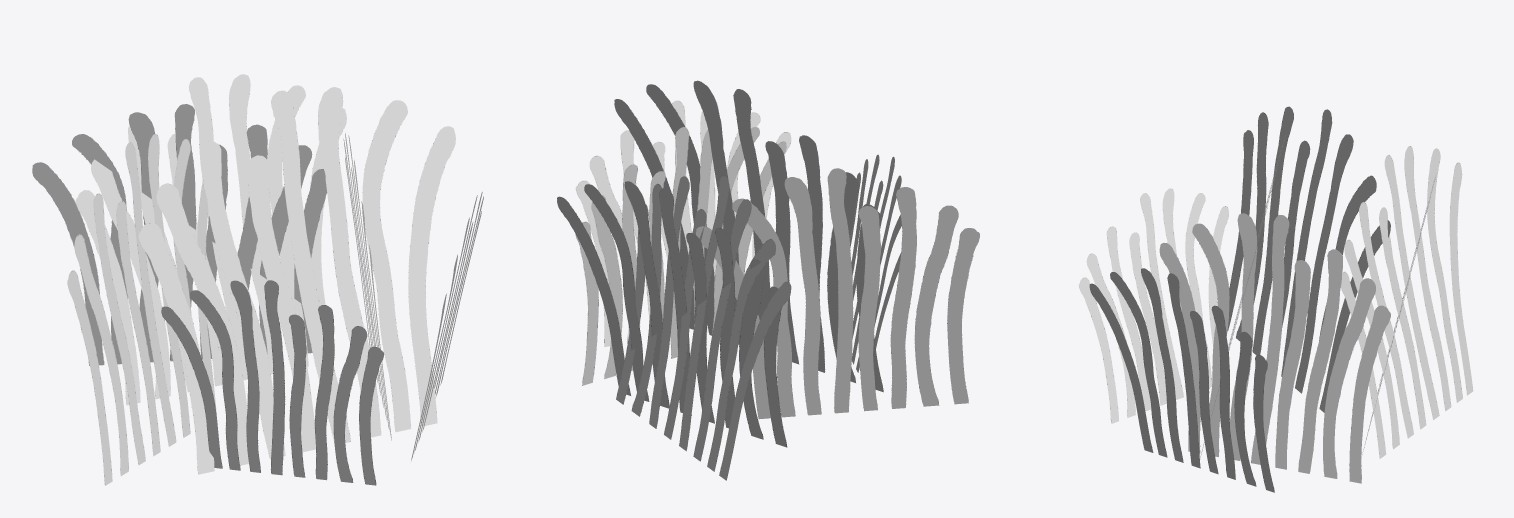
File: Grass.fbx
3 views of the same model, side by side, from view 1: azimuth 30°, elevation 25°; view 2: azimuth 150°, elevation 25°; view 3: azimuth 270°, elevation 25° (orthographic). The views are drawn at different scales.
Parts seen in each view (by area): view 1: Grass; view 2: Grass; view 3: Grass.
Boxes of the visible parts, box(x1,y1,x2,y2) form: Grass: box(32, 74, 483, 485); Grass: box(557, 80, 979, 480); Grass: box(1078, 106, 1473, 492).
Size of the model in its own units: 1.6 by 1.19 by 1.43.
